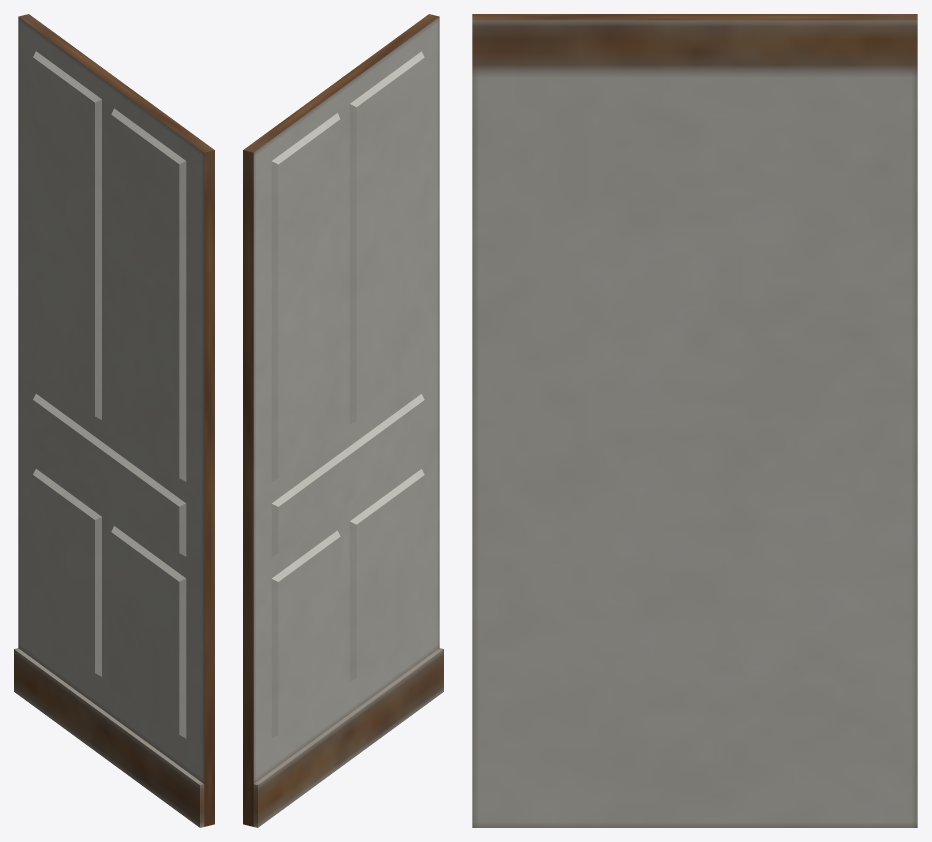
The model's file is SM_Door_01.fbx.
3 views of the same model, side by side, from view 1: azimuth 30°, elevation 25°; view 2: azimuth 150°, elevation 25°; view 3: azimuth 270°, elevation 25° (orthographic). The views are drawn at different scales.
Parts seen in each view (by area): view 1: SM_Door_01; view 2: SM_Door_01; view 3: SM_Door_01.
Boxes of the visible parts, <box> form: SM_Door_01: <box>14,14,214,827</box>; SM_Door_01: <box>243,14,443,827</box>; SM_Door_01: <box>472,14,917,827</box>.
Size of the model in its own units: 4.86 by 200 by 100.
